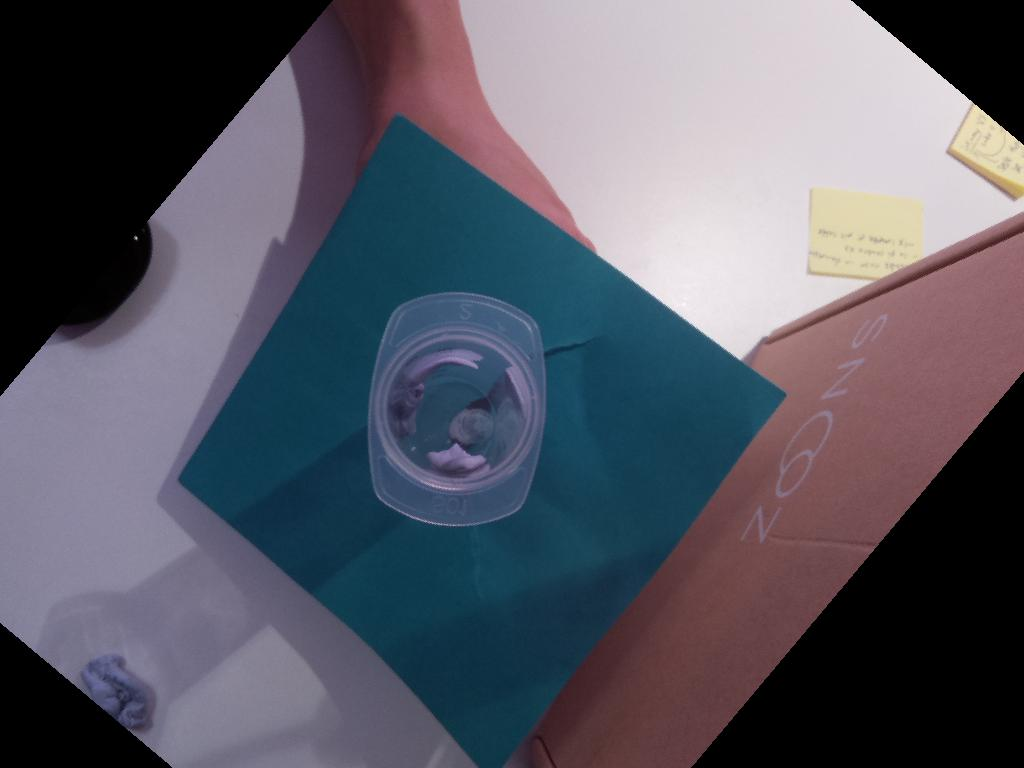dirty: (365, 289, 546, 526)
